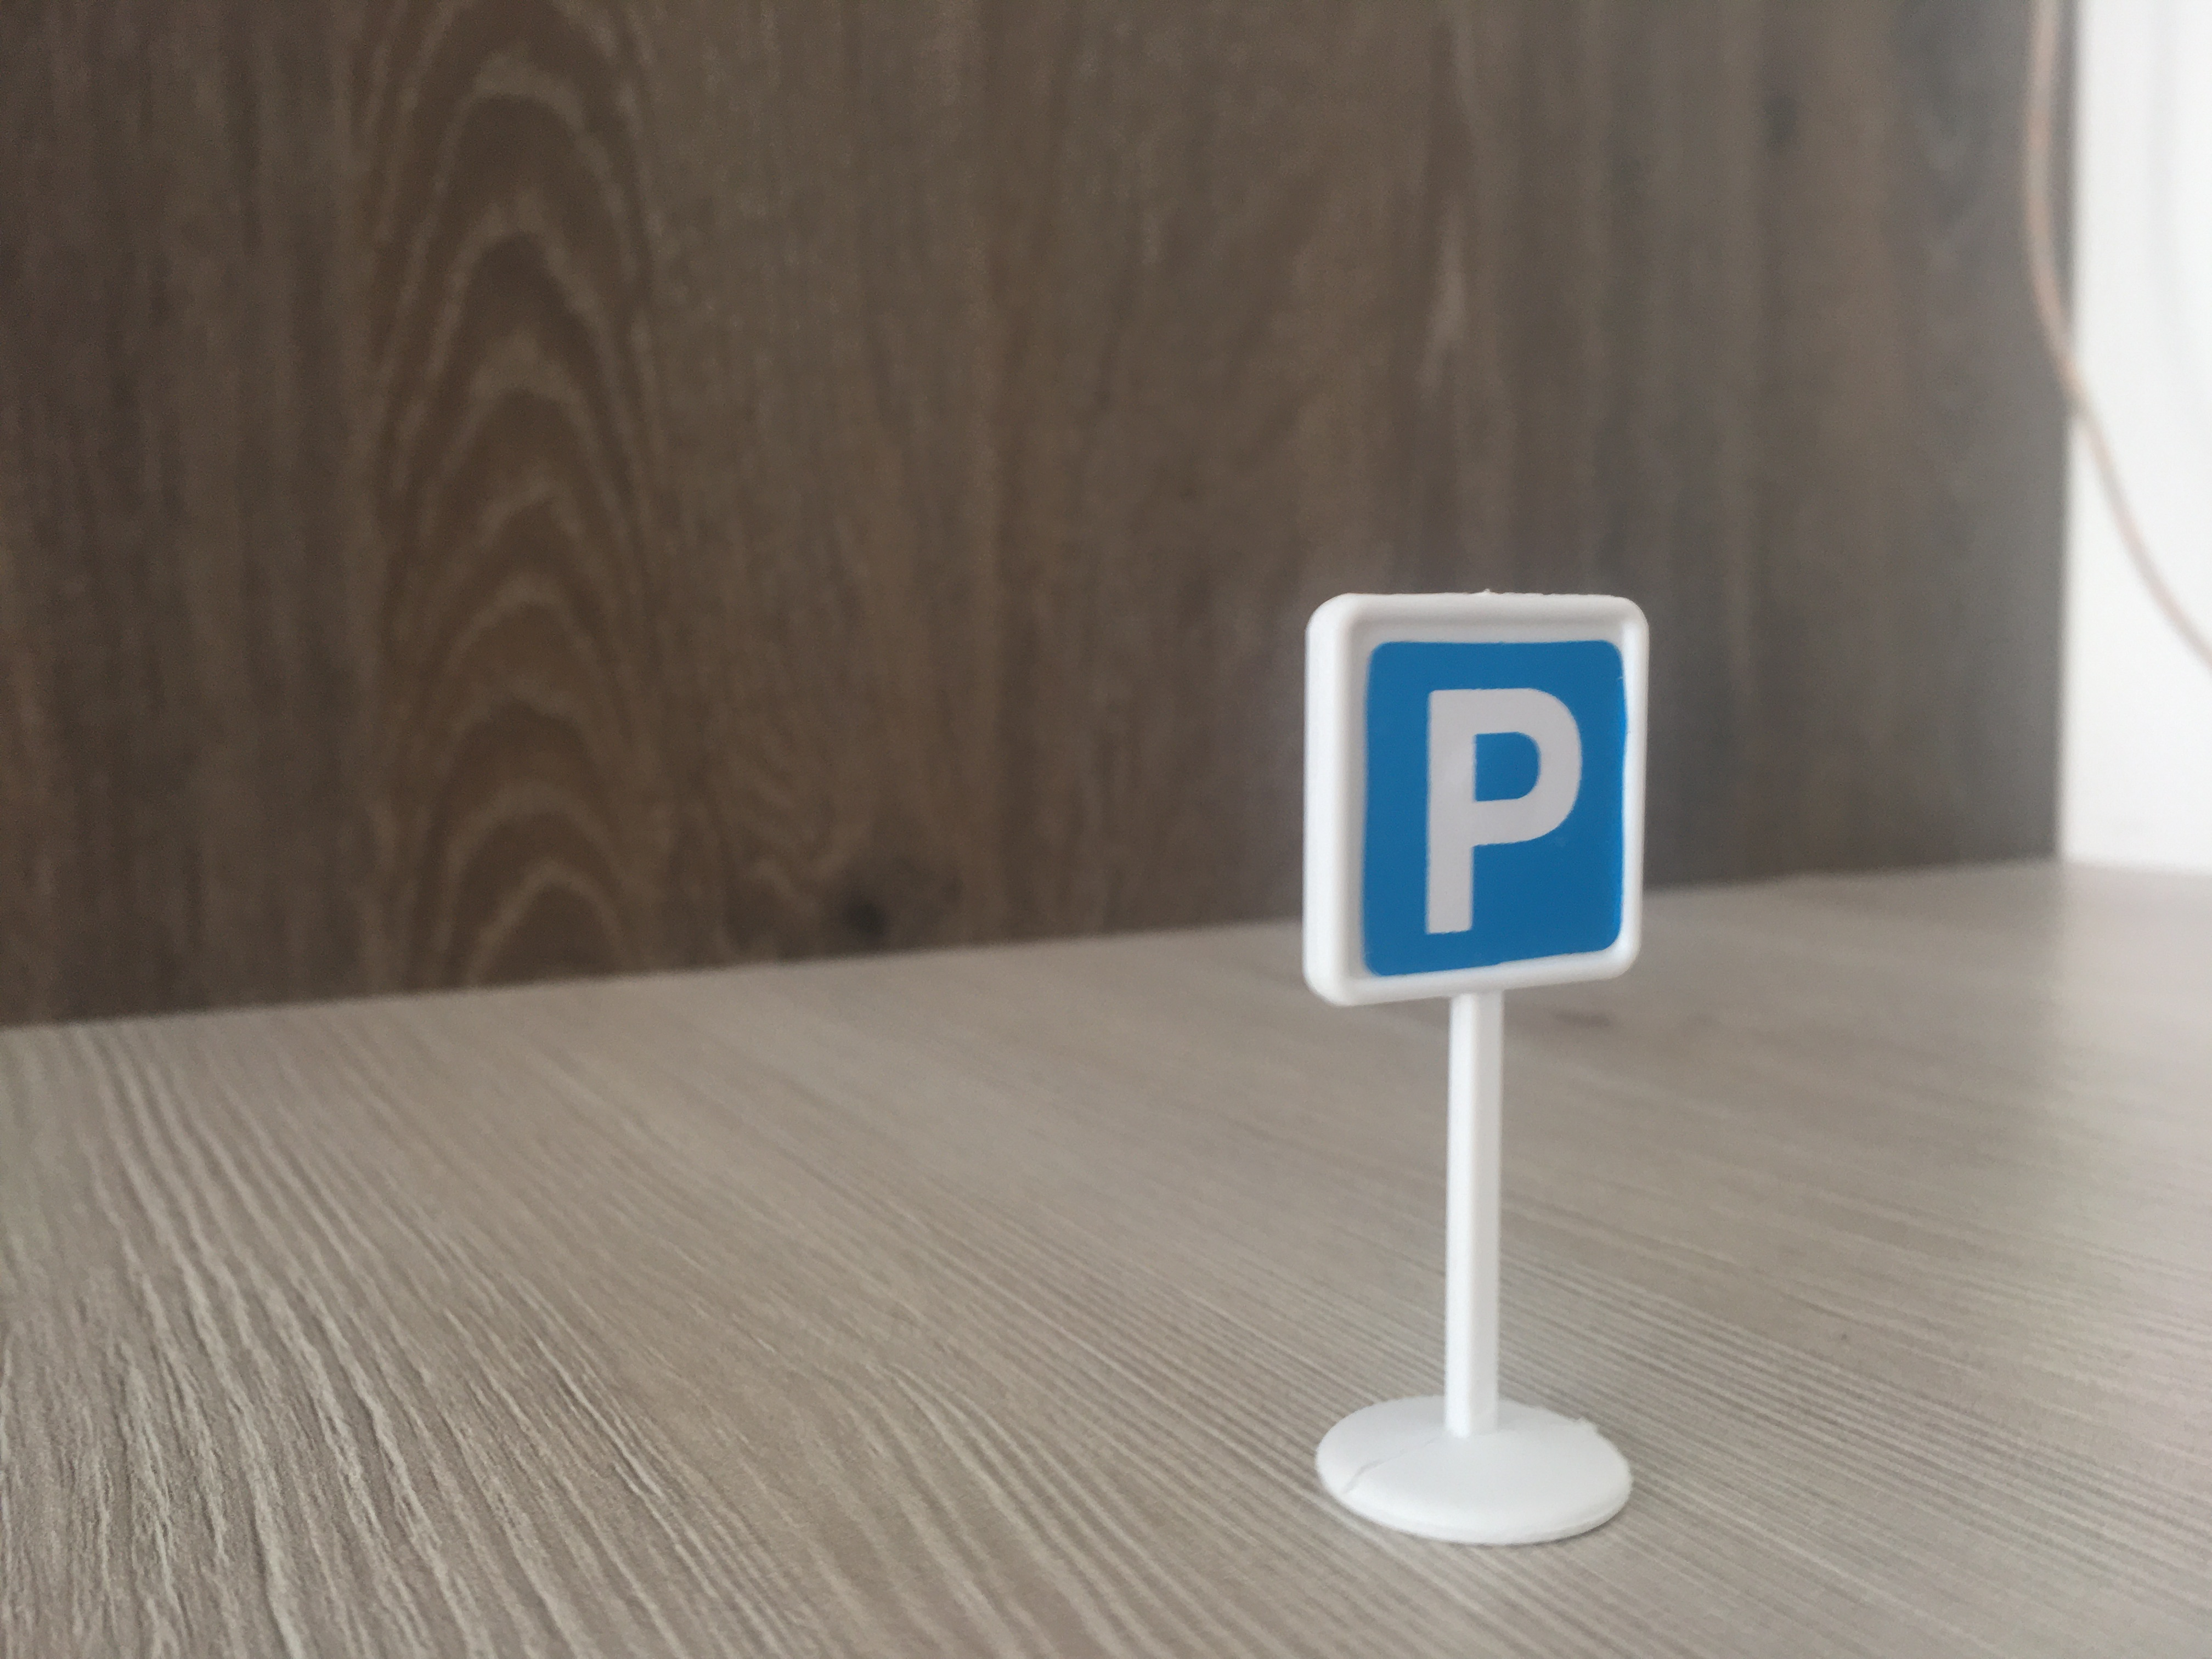parking: (1299, 591, 1651, 1025)
